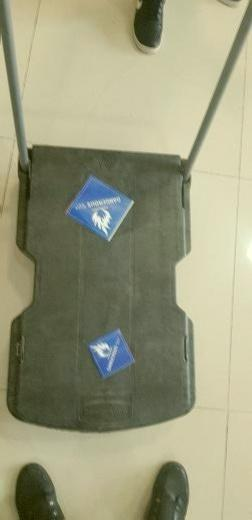dangerous-when-wet: (64, 176, 134, 243), (85, 328, 135, 381)
